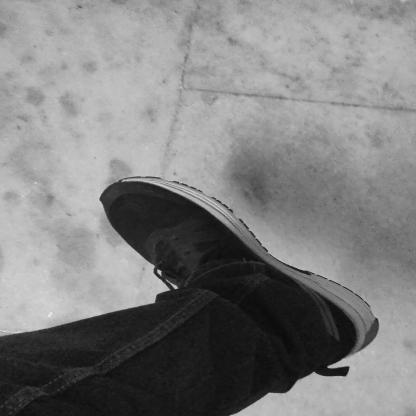ankle: (291, 290, 300, 299)
heel: (372, 333, 379, 338)
left_foot: (100, 177, 381, 368)
pinky: (107, 206, 111, 212)
toe: (145, 189, 157, 197)
